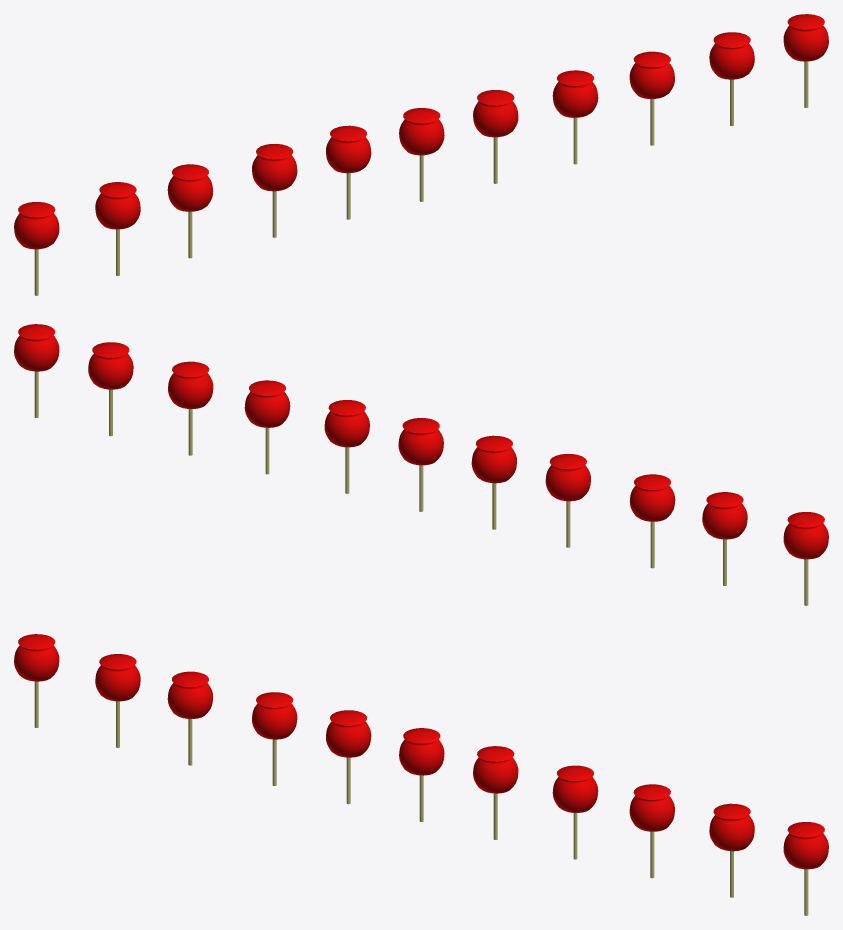
File: ringoame.fbx
3 views of the same model, one above another, from view 1: azimuth 30°, elevation 25°; view 2: azimuth 150°, elevation 25°; view 3: azimuth 330°, elevation 25° (orthographic).
Visible parts, largest first — view 1: ringoAme_2, ringoAme_10, ringoAme_3, ringoAme_6, ringoAme_1, ringoAme_7, ringoAme_9, ringoAme_11, ringoAme_4, ringoAme_5, ringoAme_8; view 2: ringoAme_2, ringoAme_10, ringoAme_3, ringoAme_6, ringoAme_1, ringoAme_7, ringoAme_9, ringoAme_11, ringoAme_4, ringoAme_5, ringoAme_8; view 3: ringoAme_2, ringoAme_5, ringoAme_6, ringoAme_10, ringoAme_8, ringoAme_11, ringoAme_7, ringoAme_1, ringoAme_3, ringoAme_4, ringoAme_9.
Part boxes in pixels (x1,y1,x2,y2): ringoAme_2: (709, 32, 754, 79); ringoAme_10: (95, 182, 140, 229); ringoAme_3: (629, 51, 674, 98); ringoAme_6: (399, 108, 444, 155); ringoAme_1: (783, 14, 828, 61); ringoAme_7: (326, 125, 371, 173); ringoAme_9: (167, 164, 213, 211); ringoAme_11: (14, 202, 59, 249); ringoAme_4: (552, 70, 598, 117); ringoAme_5: (473, 90, 518, 137); ringoAme_8: (252, 144, 297, 191); ringoAme_2: (88, 342, 133, 389); ringoAme_10: (702, 492, 747, 539); ringoAme_3: (168, 361, 213, 408); ringoAme_6: (398, 418, 443, 465); ringoAme_1: (14, 324, 59, 371); ringoAme_7: (471, 435, 516, 483); ringoAme_9: (629, 474, 675, 521); ringoAme_11: (783, 512, 828, 559); ringoAme_4: (244, 380, 290, 427); ringoAme_5: (324, 400, 369, 447); ringoAme_8: (545, 454, 590, 501); ringoAme_2: (709, 803, 754, 851); ringoAme_5: (473, 746, 518, 793); ringoAme_6: (399, 728, 444, 775); ringoAme_10: (95, 654, 140, 701); ringoAme_8: (252, 692, 297, 739); ringoAme_11: (14, 634, 59, 681); ringoAme_7: (326, 710, 371, 757); ringoAme_1: (783, 822, 828, 869); ringoAme_3: (629, 784, 674, 831); ringoAme_4: (552, 765, 598, 812); ringoAme_9: (167, 671, 212, 718).
Size of the model in its own units: 3.38 by 0.345 by 0.1655.
